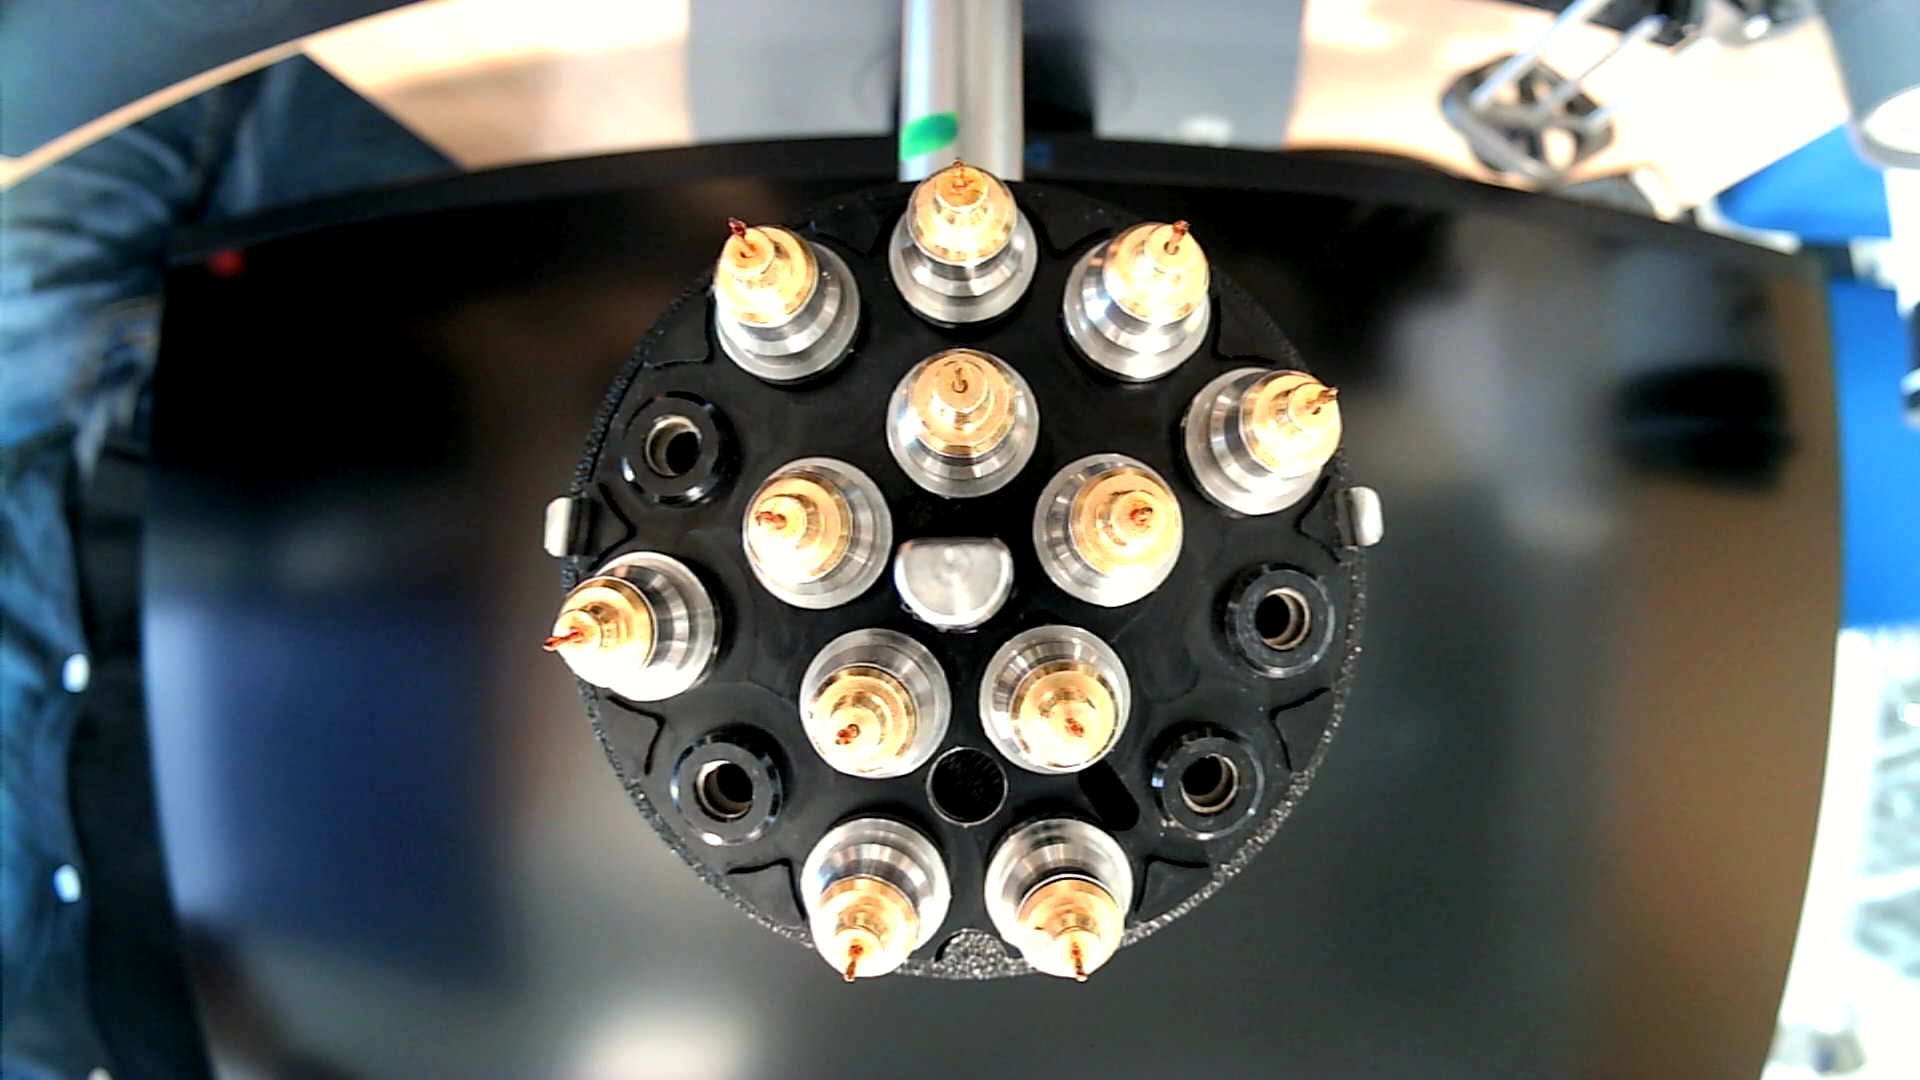empty: (615, 389, 742, 518), (669, 720, 794, 852), (1145, 717, 1270, 848), (1216, 554, 1335, 683)
hole: (924, 740, 1011, 829)
pin: (543, 555, 725, 715), (804, 812, 965, 990), (700, 218, 857, 396), (990, 808, 1145, 982), (878, 158, 1031, 334), (1054, 212, 1205, 384), (800, 626, 959, 785), (1179, 359, 1342, 512), (738, 458, 894, 617), (880, 347, 1038, 501), (1030, 448, 1184, 607), (980, 618, 1135, 774)
rod: (885, 533, 1021, 636)
